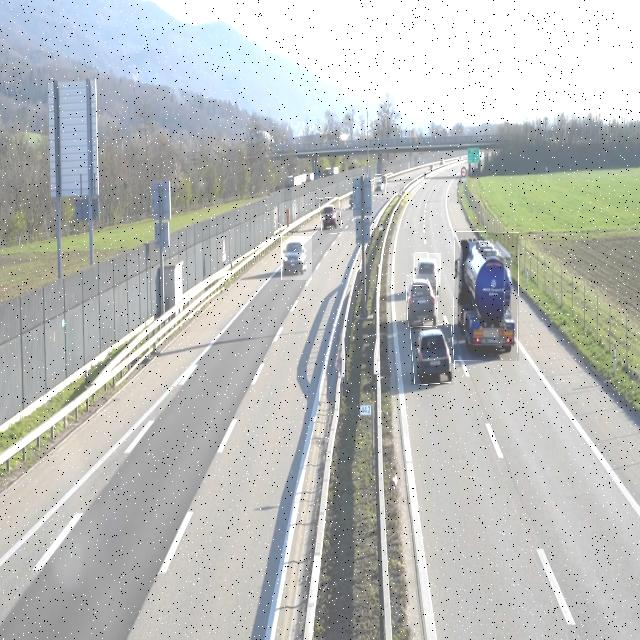Car: (411, 325, 454, 385), (407, 274, 437, 327), (281, 236, 312, 280), (413, 253, 441, 286), (320, 198, 342, 234), (374, 175, 386, 196)
Truck: (454, 232, 519, 361)
